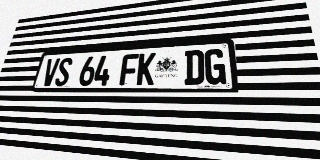4: (93, 55, 112, 86)
6: (78, 56, 98, 86)
D: (184, 50, 204, 85)
F: (119, 54, 139, 85)
G: (205, 48, 226, 85)
K: (136, 53, 156, 85)
S: (54, 57, 73, 86)
V: (41, 58, 60, 86)
